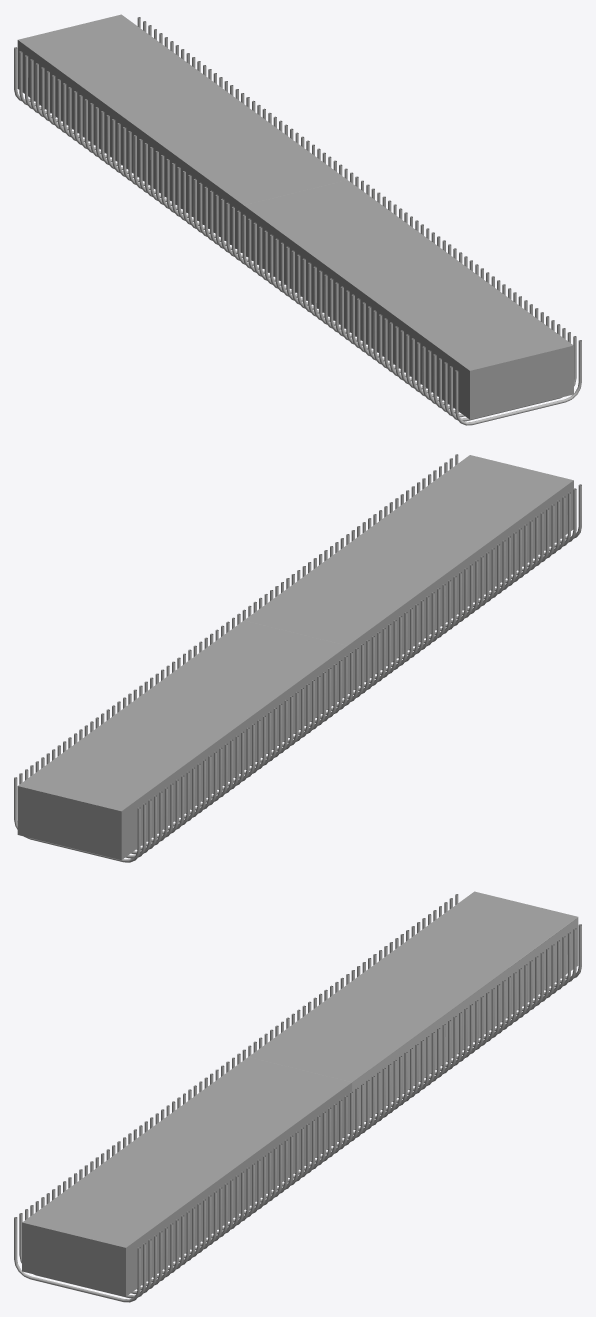
The picture shows the model from 3 angles, top to bottom: view 1: azimuth 30°, elevation 25°; view 2: azimuth 150°, elevation 25°; view 3: azimuth 330°, elevation 25°; orthographic projection.
Parts seen in each view (by area): view 1: SM_Overhead_light.001, Cube.012; view 2: SM_Overhead_light.001, Cube.012; view 3: SM_Overhead_light.001, Cube.012.
Boxes of the visible parts, bbox=[...] form: SM_Overhead_light.001: bbox=[17, 14, 573, 419]; Cube.012: bbox=[14, 17, 581, 425]; SM_Overhead_light.001: bbox=[17, 455, 573, 860]; Cube.012: bbox=[14, 454, 581, 862]; SM_Overhead_light.001: bbox=[22, 891, 578, 1296]; Cube.012: bbox=[14, 894, 581, 1302].
Bounding box in the file's own units: 0.3238 × 0.1418 × 2.01.
Materials: 1 (1 with a texture image).
